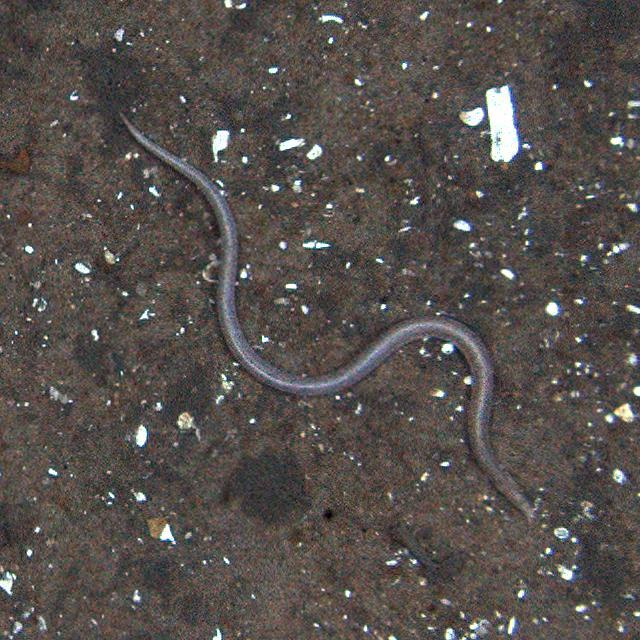eel: (118, 113, 536, 523)
